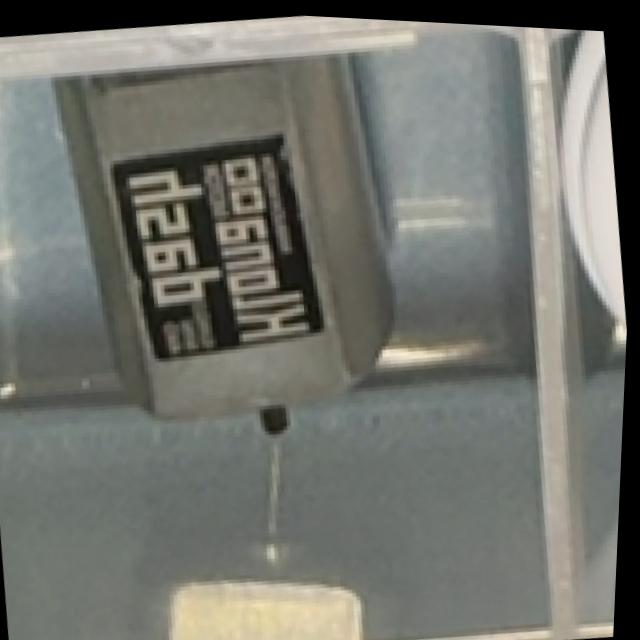Motor: (22, 2, 422, 451)
